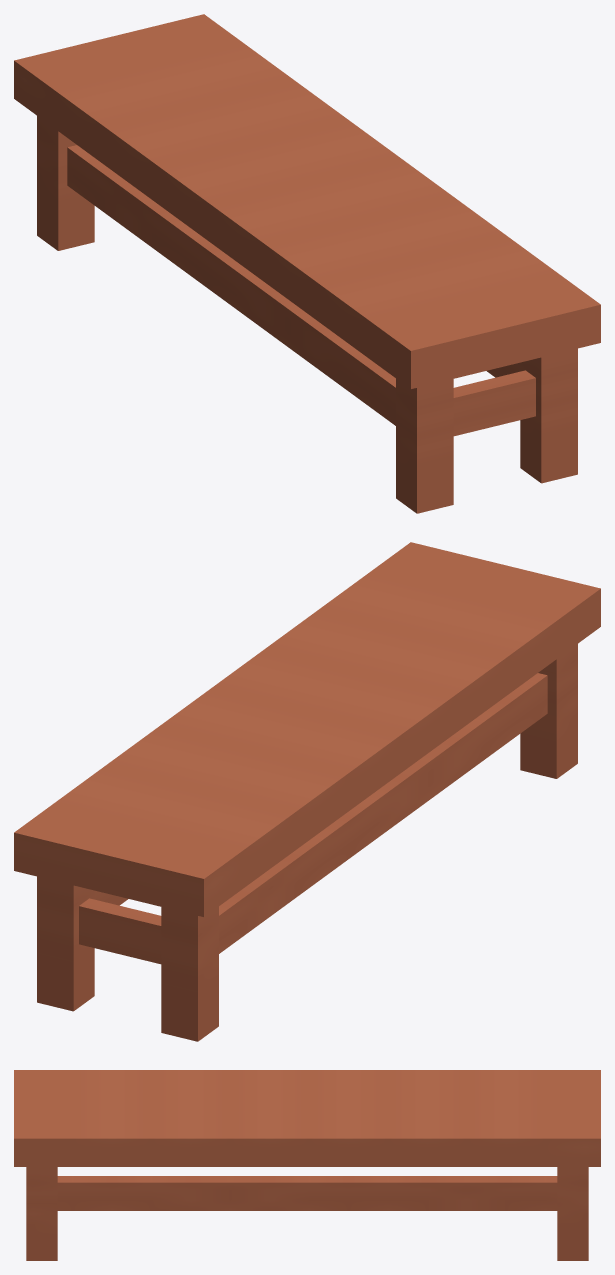
Rendered from stallBench.fbx.
The picture shows the model from 3 angles, top to bottom: view 1: azimuth 30°, elevation 25°; view 2: azimuth 150°, elevation 25°; view 3: azimuth 270°, elevation 25°; orthographic projection. The views are drawn at different scales.
Visible parts, largest first — view 1: stallBench; view 2: stallBench; view 3: stallBench.
Part boxes in pixels (x1,y1,x2,y2): stallBench: [14, 14, 600, 513]; stallBench: [14, 542, 600, 1041]; stallBench: [14, 1070, 600, 1260].
Size of the model in its own units: 0.26 by 0.94 by 0.2255.
